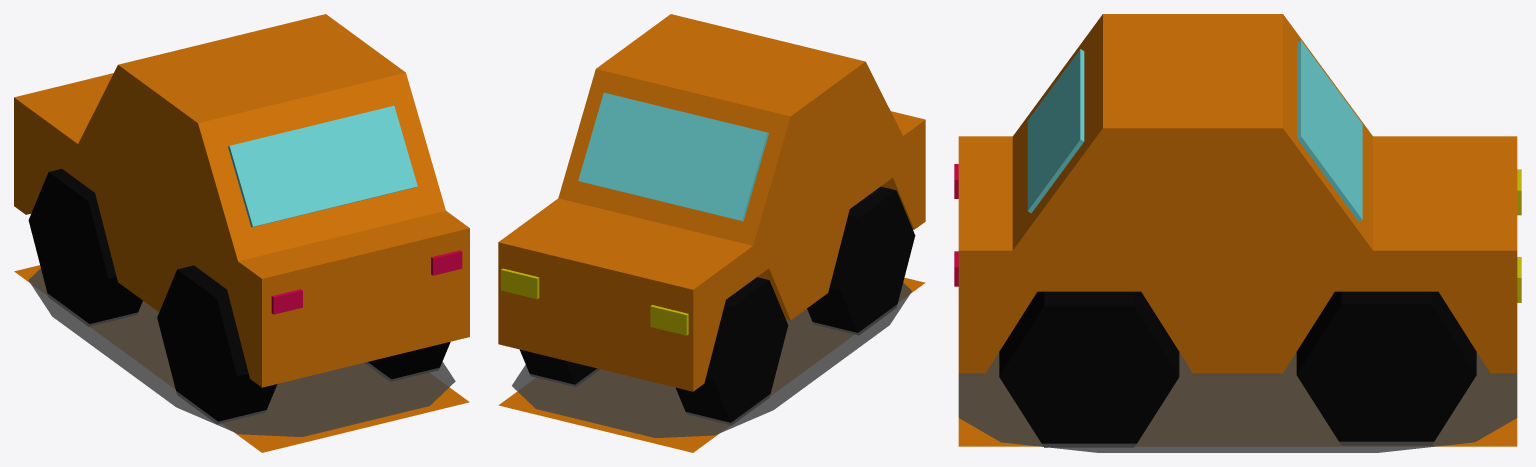
Rendered from Car_AI.dae.
3 renders of one model, left to right at view 1: azimuth 30°, elevation 25°; view 2: azimuth 150°, elevation 25°; view 3: azimuth 270°, elevation 25°, orthographic. The views are drawn at different scales.
Visible parts, largest first — view 1: Cube, Circle_001, Circle_003, Circle; view 2: Cube, Circle_001, Circle_003, Circle_002; view 3: Cube, Circle, Circle_002.
Part boxes in pixels (left/top/right/bottom): Cube: left=14, top=14, right=469, bottom=452; Circle_001: left=157, top=265, right=277, bottom=421; Circle_003: left=28, top=169, right=142, bottom=323; Circle: left=368, top=342, right=450, bottom=379; Cube: left=498, top=14, right=925, bottom=452; Circle_001: left=807, top=186, right=915, bottom=332; Circle_003: left=675, top=277, right=788, bottom=422; Circle_002: left=520, top=349, right=597, bottom=384; Cube: left=954, top=14, right=1521, bottom=452; Circle: left=999, top=291, right=1179, bottom=447; Circle_002: left=1296, top=291, right=1476, bottom=441.
Size of the model in its own units: 3.69 by 6.3 by 3.9.
